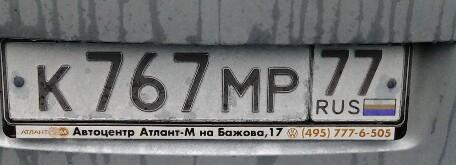license-plateSW: (0, 36, 410, 128)
